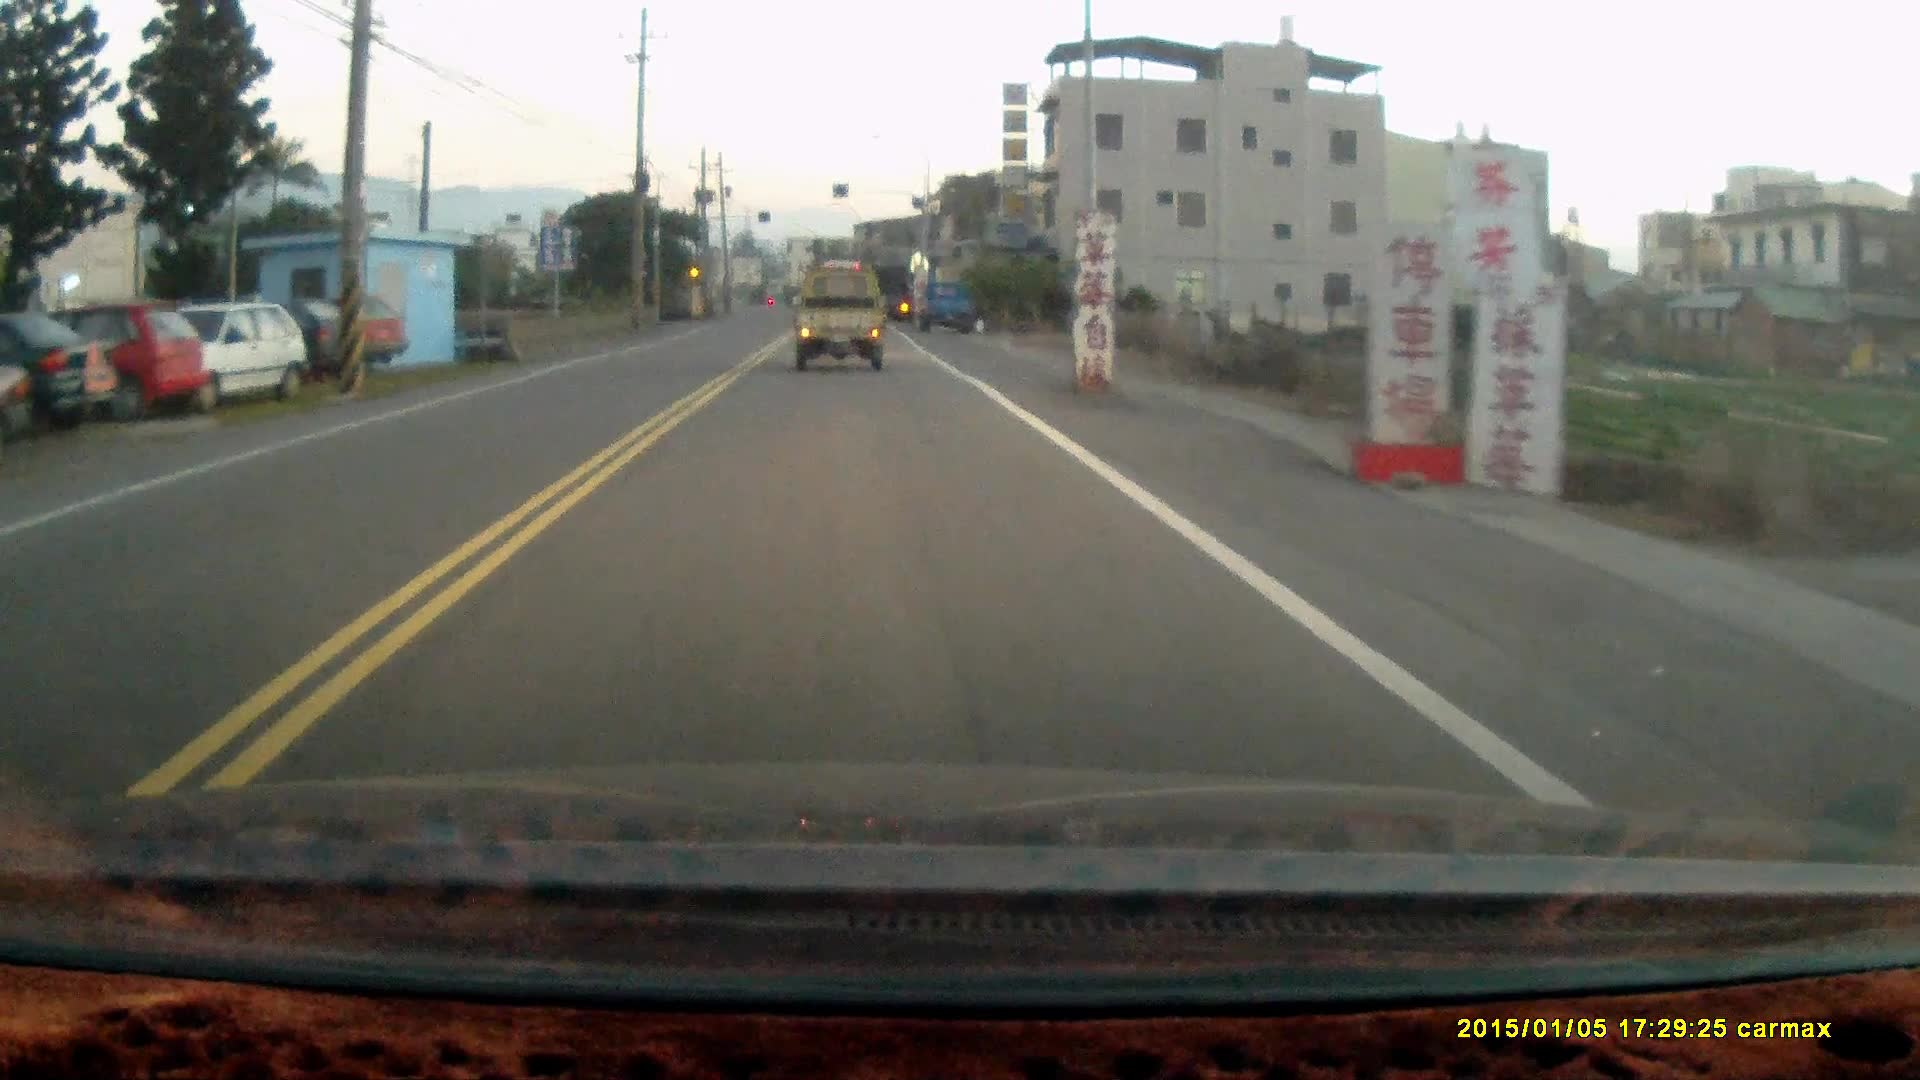vehicle: (11, 316, 194, 425), (131, 302, 313, 404), (257, 295, 413, 377), (793, 266, 887, 375), (911, 276, 978, 335), (1, 349, 37, 447)
